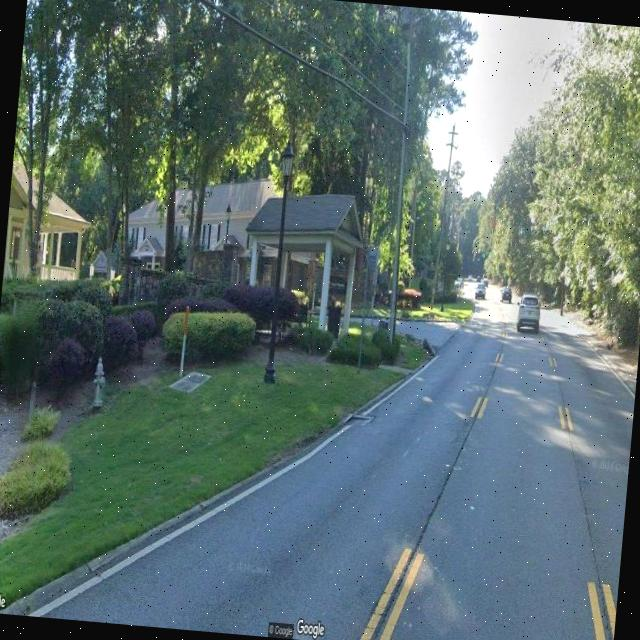trash_can: (326, 304, 342, 338)
